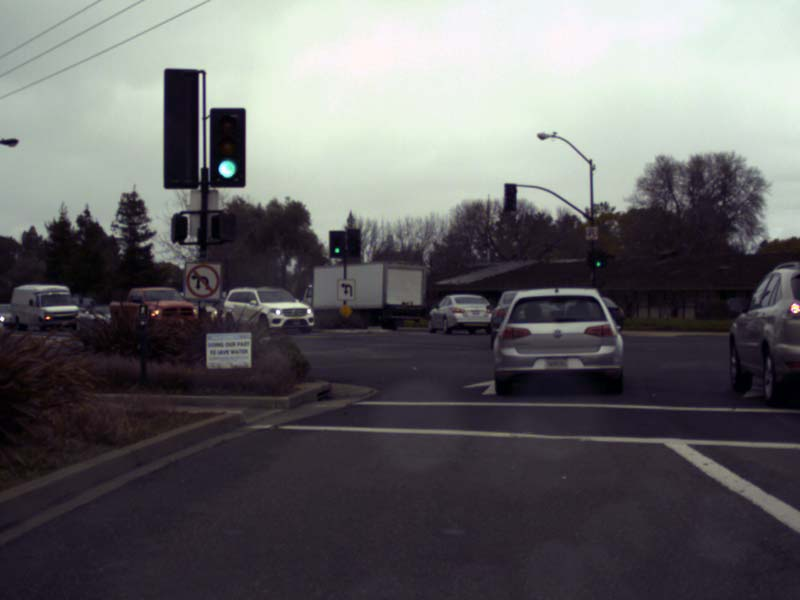Green: (211, 105, 240, 185), (329, 230, 344, 257), (593, 250, 602, 269)
Red: (504, 183, 516, 209), (348, 229, 359, 256)
